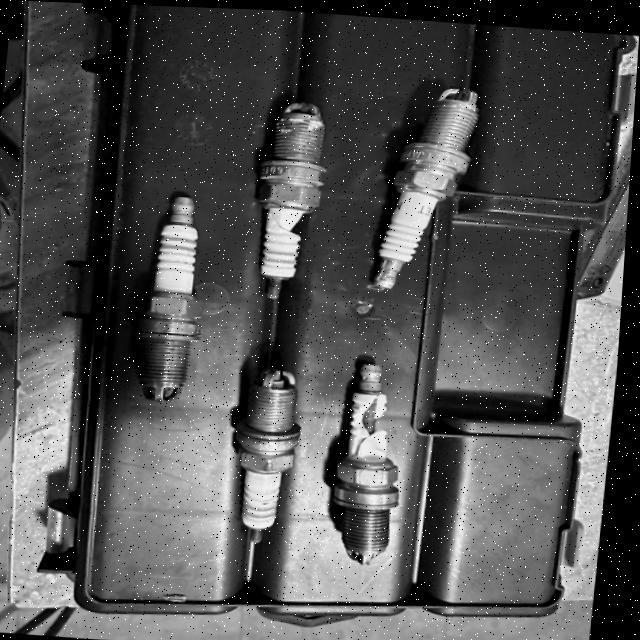damaged_spark-plug: (320, 339, 434, 558), (245, 84, 348, 309)
spark-plug: (362, 68, 494, 302), (126, 182, 229, 404), (209, 355, 317, 547)
